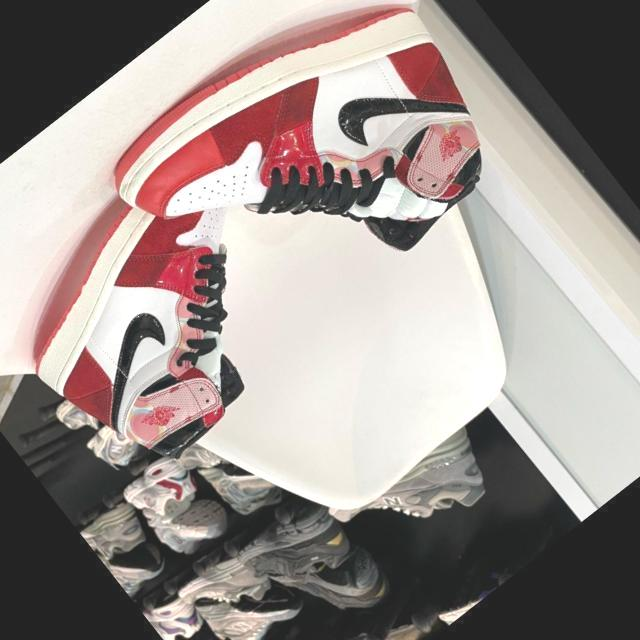nike_fake_jordan: (98, 0, 533, 370), (0, 106, 383, 492)
